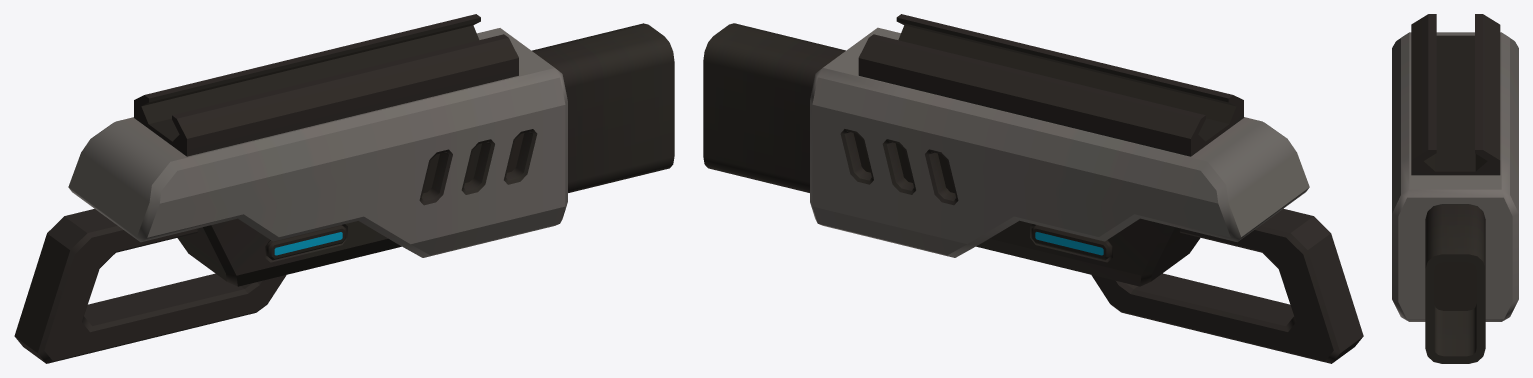
Rendered from AR4_GrenadeLauncher.fbx.
The picture shows the model from 3 angles, left to right: view 1: azimuth 30°, elevation 25°; view 2: azimuth 150°, elevation 25°; view 3: azimuth 270°, elevation 25°; orthographic projection. The views are drawn at different scales.
Visible parts, largest first — view 1: AR4_GrenadeLauncher; view 2: AR4_GrenadeLauncher; view 3: AR4_GrenadeLauncher.
Boxes of the visible parts, x1=… form: AR4_GrenadeLauncher: x1=14, y1=14, x2=674, y2=363; AR4_GrenadeLauncher: x1=703, y1=14, x2=1363, y2=363; AR4_GrenadeLauncher: x1=1392, y1=14, x2=1518, y2=363.
Bounding box in the file's own units: 24.72 × 8.16 × 5.14.
